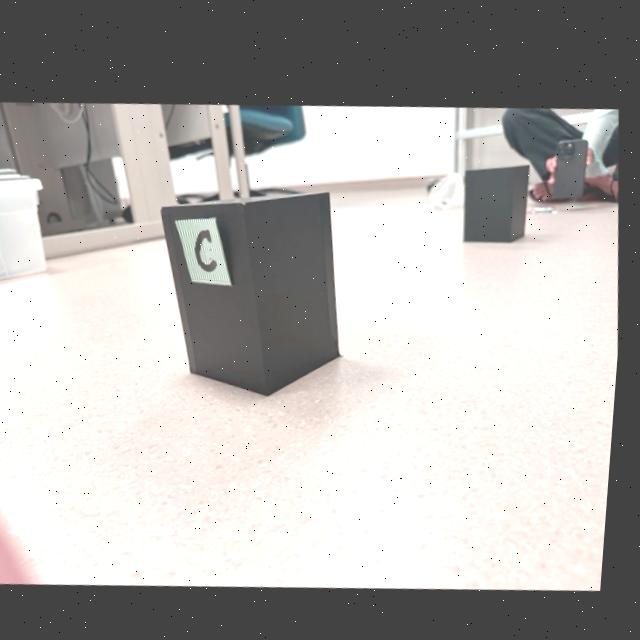C: (197, 226, 219, 266)
